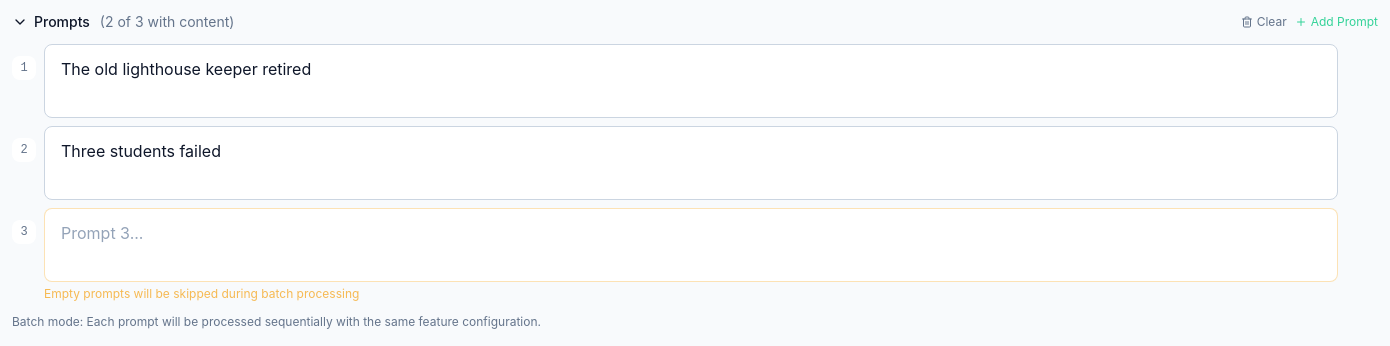
Test: PromptListEditor collapse › collapsing hides the editor without discarding the prompts
This screenshot has width=1390, height=346.
Click the button "Prompts (2 of 3 with content)": (123, 22) [12,12,234,32]
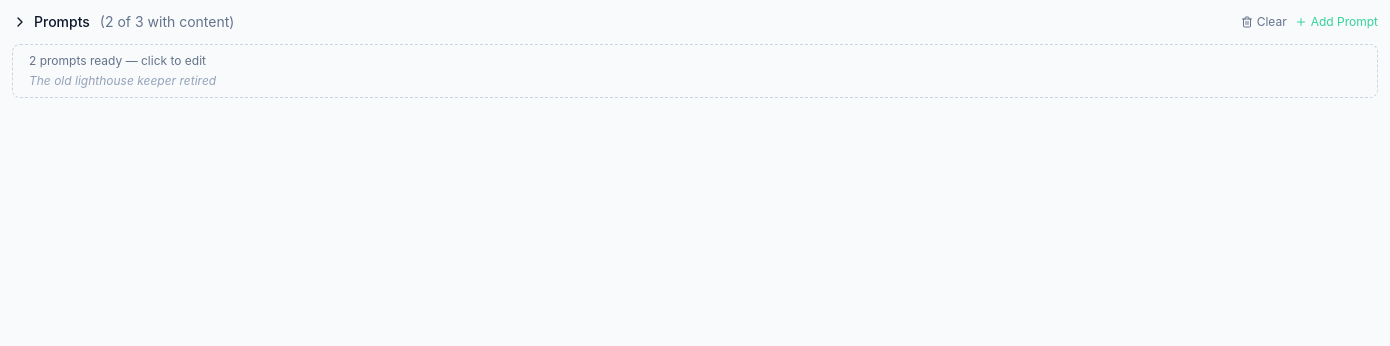
Expected: the button "Prompts (2 of 3 with content)" is collapsed, [12,12,234,32]
